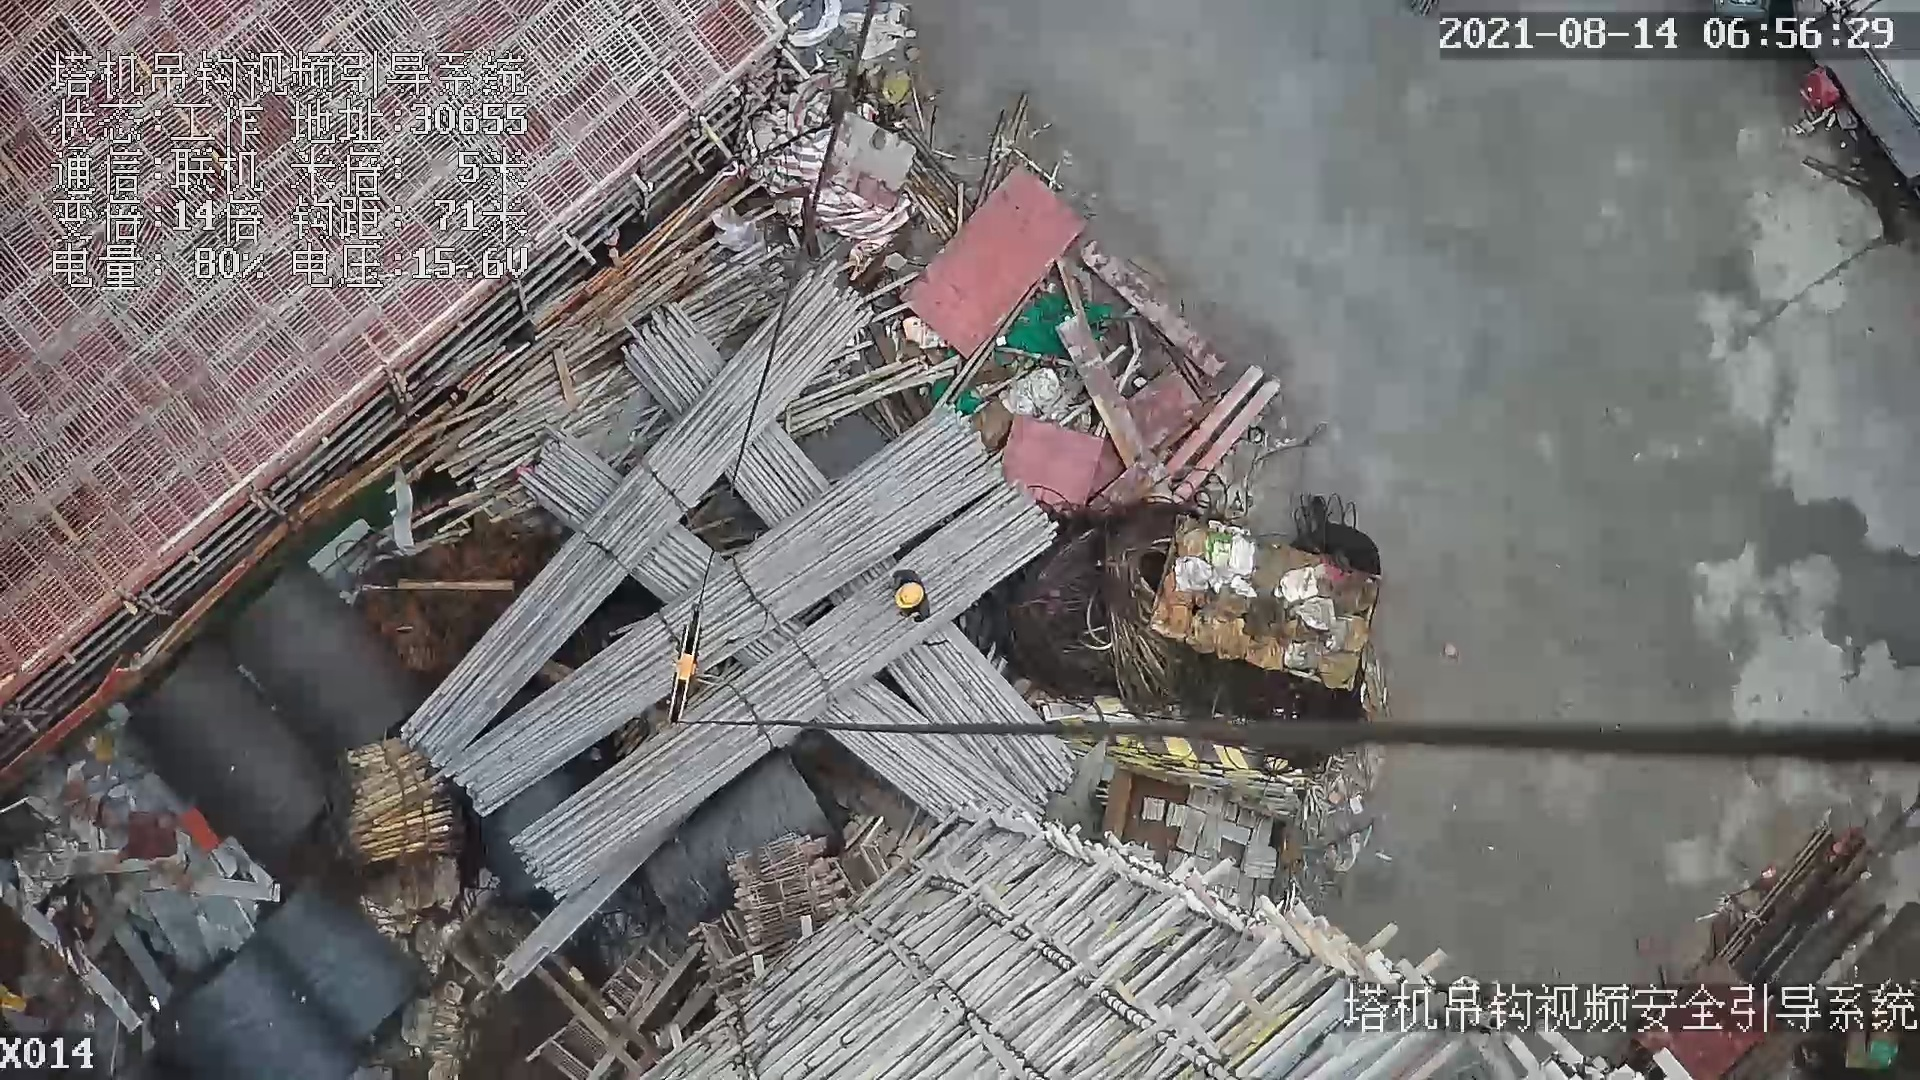helmet: (894, 581, 925, 609)
hook: (662, 599, 706, 731)
person: (894, 569, 938, 633)
rebar: (400, 273, 878, 766), (510, 478, 1060, 901), (445, 406, 1002, 818), (814, 674, 1047, 827), (882, 623, 1072, 804)
wood: (343, 737, 454, 864)
